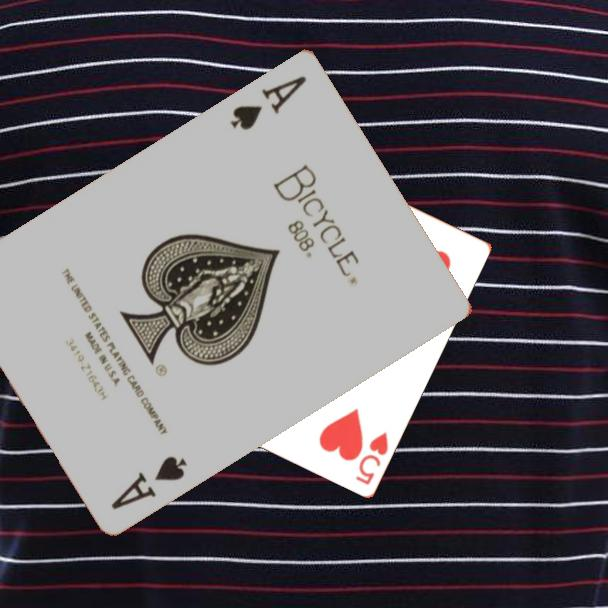h05: (352, 428, 391, 487)
s01: (226, 71, 310, 133), (107, 451, 190, 512)
